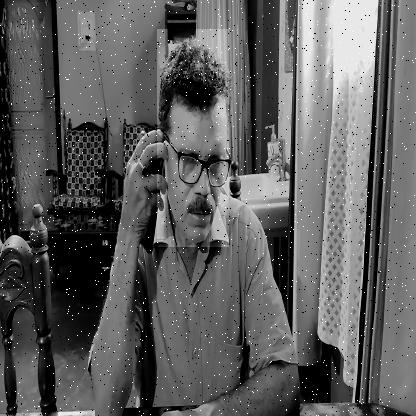Distracted: (157, 29, 229, 247)
